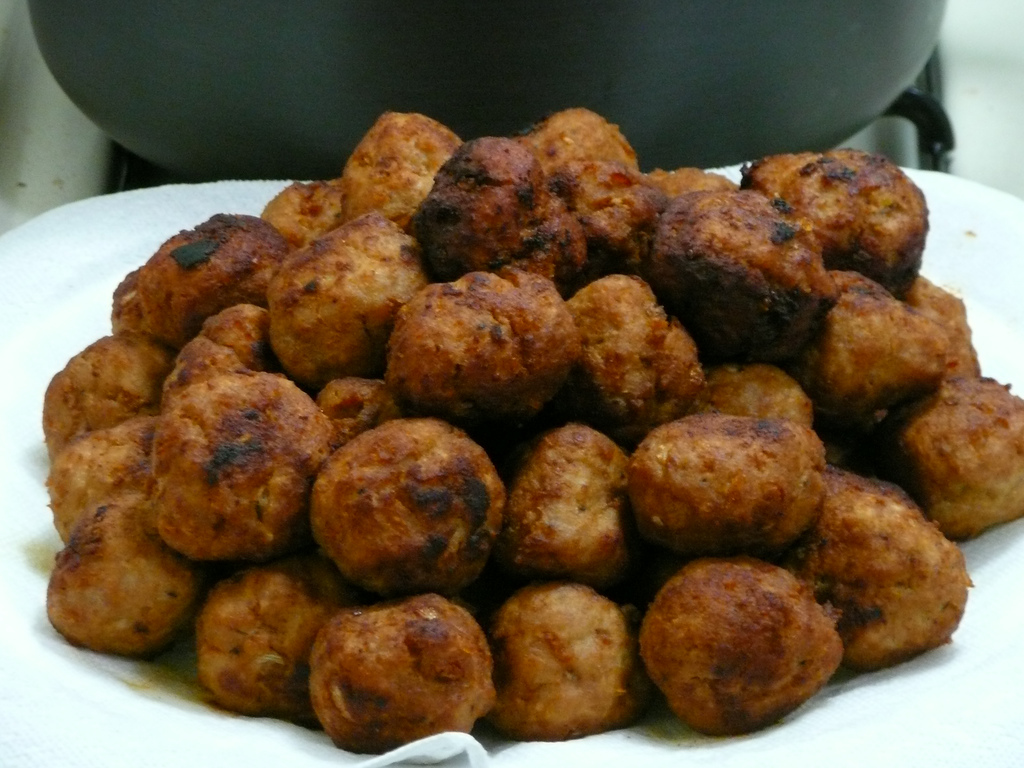meatballs: (601, 160, 980, 415), (41, 381, 302, 708), (88, 157, 380, 368), (830, 411, 997, 654), (362, 108, 631, 255), (655, 561, 859, 727), (393, 273, 577, 429), (315, 439, 507, 585), (161, 387, 316, 549), (316, 599, 495, 735), (633, 421, 815, 540), (508, 588, 646, 738)
